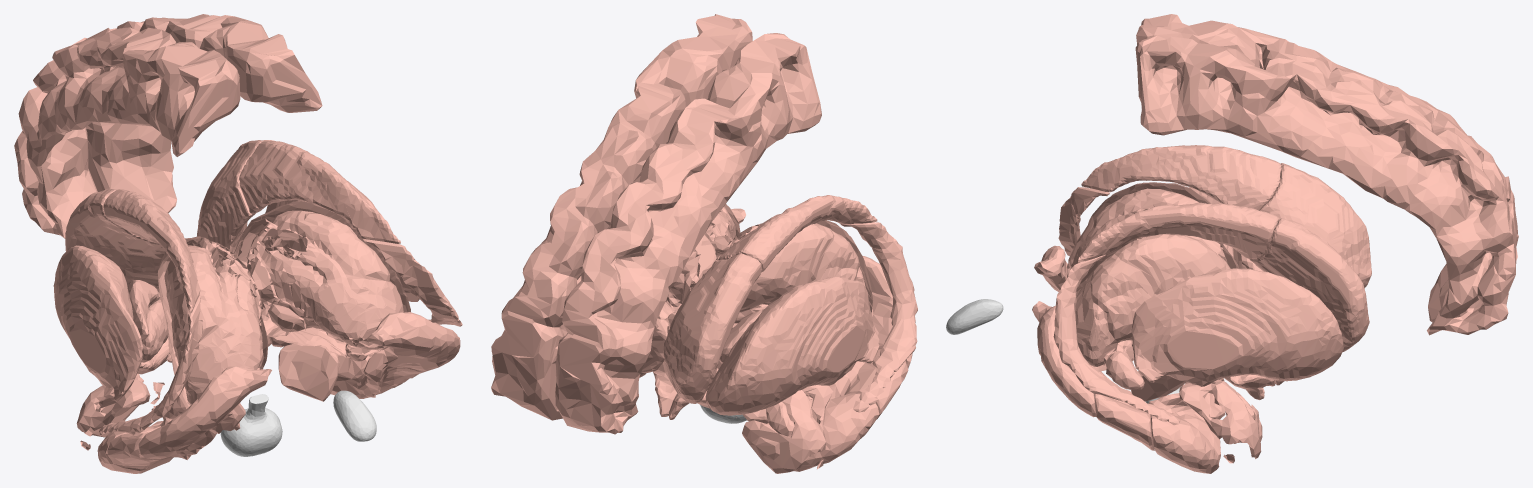
Rendered from subcortical.glb.
3 renders of one model, left to right at view 1: azimuth 30°, elevation 25°; view 2: azimuth 150°, elevation 25°; view 3: azimuth 270°, elevation 25°, orthographic. The views are drawn at different scales.
Parts seen in each view (by area): view 1: putamen_lh, thalamus_rh, putamen_rh, caudate_rh, caudate_lh, thalamus_lh, hippocampus_lh, hippocampus_rh, substantia_nigra_rh, amygdala_lh, pituitary, pulvinar_rh (+5 smaller); view 2: putamen_lh, putamen_rh, caudate_lh, thalamus_lh, hippocampus_lh, amygdala_lh, thalamus_rh, tmn, basal_forebrain, gpe_lh, intralaminar_thalamus_rh; view 3: putamen_rh, caudate_rh, caudate_lh, thalamus_rh, putamen_lh, hippocampus_rh, amygdala_rh, thalamus_lh, pineal, pulvinar_rh, hippocampus_lh, lgn_rh (+1 smaller).
Boxes of the visible parts, bbox=[...] form: putamen_lh: bbox=[14, 27, 240, 401]; thalamus_rh: bbox=[228, 201, 410, 359]; putamen_rh: bbox=[86, 14, 419, 301]; caudate_rh: bbox=[197, 140, 462, 326]; caudate_lh: bbox=[65, 188, 202, 435]; thalamus_lh: bbox=[158, 236, 268, 408]; hippocampus_lh: bbox=[97, 366, 271, 473]; hippocampus_rh: bbox=[331, 312, 460, 398]; substantia_nigra_rh: bbox=[278, 344, 339, 401]; amygdala_lh: bbox=[76, 373, 164, 450]; pituitary: bbox=[220, 394, 282, 456]; pulvinar_rh: bbox=[315, 280, 402, 349]; putamen_lh: bbox=[555, 33, 879, 434]; putamen_rh: bbox=[491, 14, 752, 420]; caudate_lh: bbox=[663, 195, 917, 412]; thalamus_lh: bbox=[712, 220, 872, 327]; hippocampus_lh: bbox=[767, 256, 912, 471]; amygdala_lh: bbox=[736, 385, 833, 473]; thalamus_rh: bbox=[665, 204, 740, 311]; tmn: bbox=[653, 311, 722, 419]; basal_forebrain: bbox=[641, 318, 718, 372]; gpe_lh: bbox=[719, 309, 764, 363]; intralaminar_thalamus_rh: bbox=[690, 234, 716, 287]; putamen_rh: bbox=[1131, 35, 1517, 386]; caudate_rh: bbox=[1053, 202, 1369, 425]; caudate_lh: bbox=[1058, 145, 1371, 288]; thalamus_rh: bbox=[1075, 233, 1238, 371]; putamen_lh: bbox=[1136, 14, 1518, 322]; hippocampus_rh: bbox=[1032, 301, 1220, 473]; amygdala_rh: bbox=[1179, 379, 1262, 463]; thalamus_lh: bbox=[1066, 182, 1242, 277]; pineal: bbox=[946, 299, 1003, 334]; pulvinar_rh: bbox=[1076, 276, 1116, 366]; hippocampus_lh: bbox=[1034, 245, 1224, 393]; lgn_rh: bbox=[1106, 351, 1144, 389].
Bounding box in the file's own units: 87.73 × 107 × 139.
